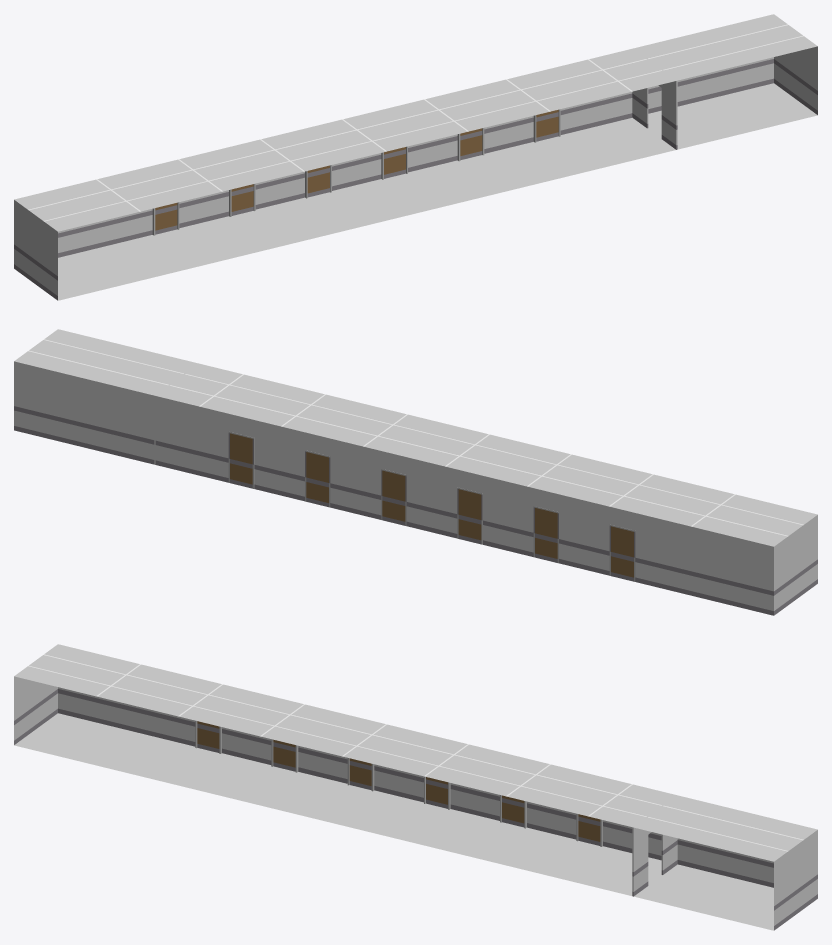
The model's file is clinic.fbx.
3 views of the same model, one above another, from view 1: azimuth 30°, elevation 25°; view 2: azimuth 150°, elevation 25°; view 3: azimuth 330°, elevation 25° (orthographic).
Parts seen in each view (by area): view 1: clinic; view 2: clinic; view 3: clinic.
Part boxes in pixels (x1,y1,x2,y2): clinic: [14, 14, 817, 300]; clinic: [14, 329, 817, 615]; clinic: [14, 644, 817, 930].
Size of the model in its own units: 7977 by 693 by 803.
